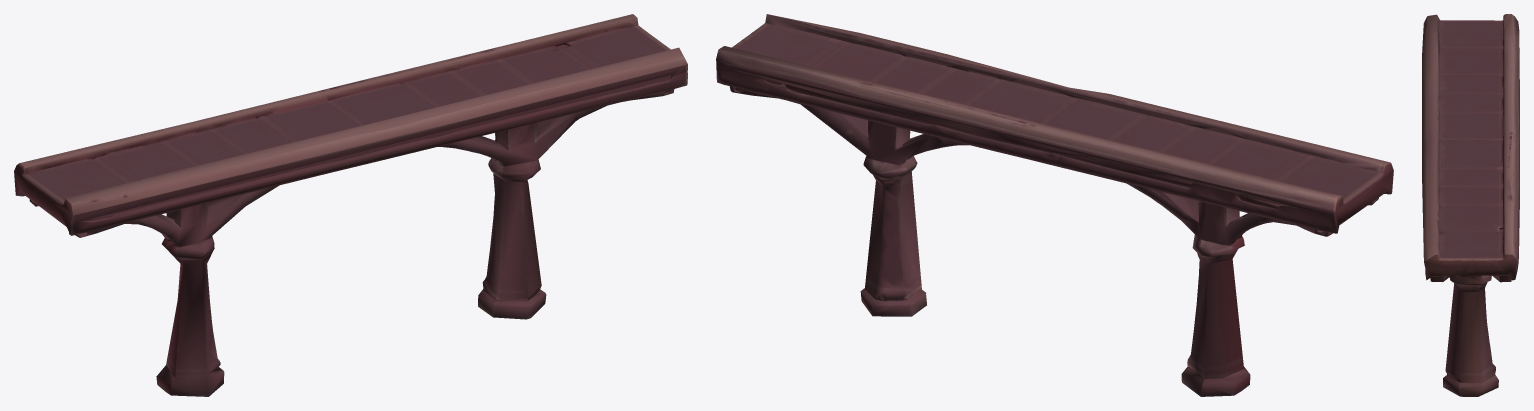
The model's file is bridge_module.glb.
3 views of the same model, side by side, from view 1: azimuth 30°, elevation 25°; view 2: azimuth 150°, elevation 25°; view 3: azimuth 270°, elevation 25° (orthographic). The views are drawn at different scales.
Visible parts, largest first — view 1: bridge_module; view 2: bridge_module; view 3: bridge_module.
Part boxes in pixels (left/top/right/bottom): bridge_module: left=14, top=14, right=687, bottom=396; bridge_module: left=716, top=14, right=1393, bottom=396; bridge_module: left=1422, top=14, right=1519, bottom=396.
Bounding box in the file's own units: 25 × 9.31 × 4.3.
1 material, 1 textured.
